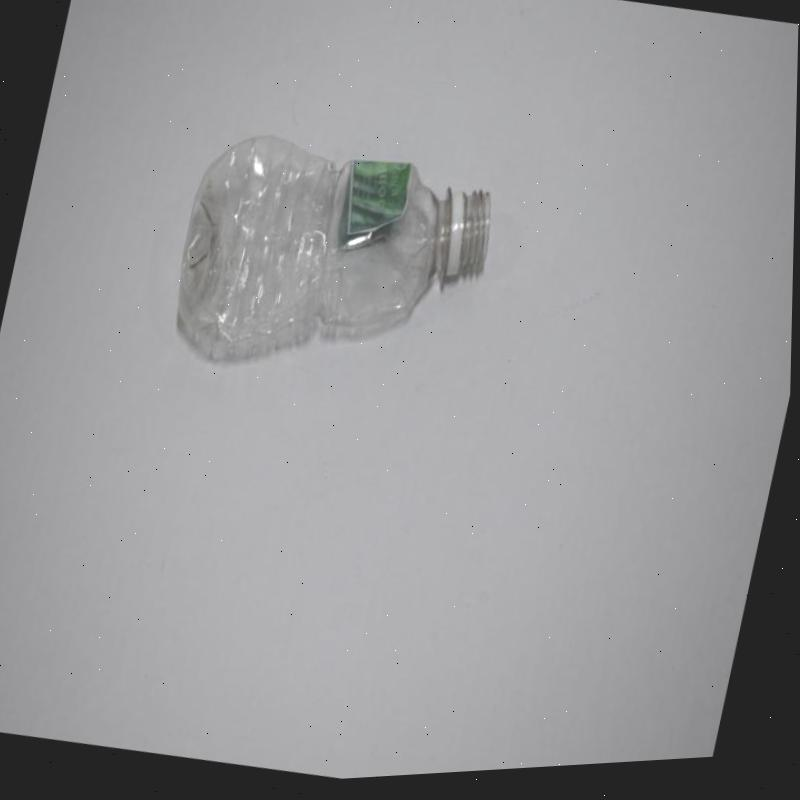botella: (158, 111, 508, 417)
